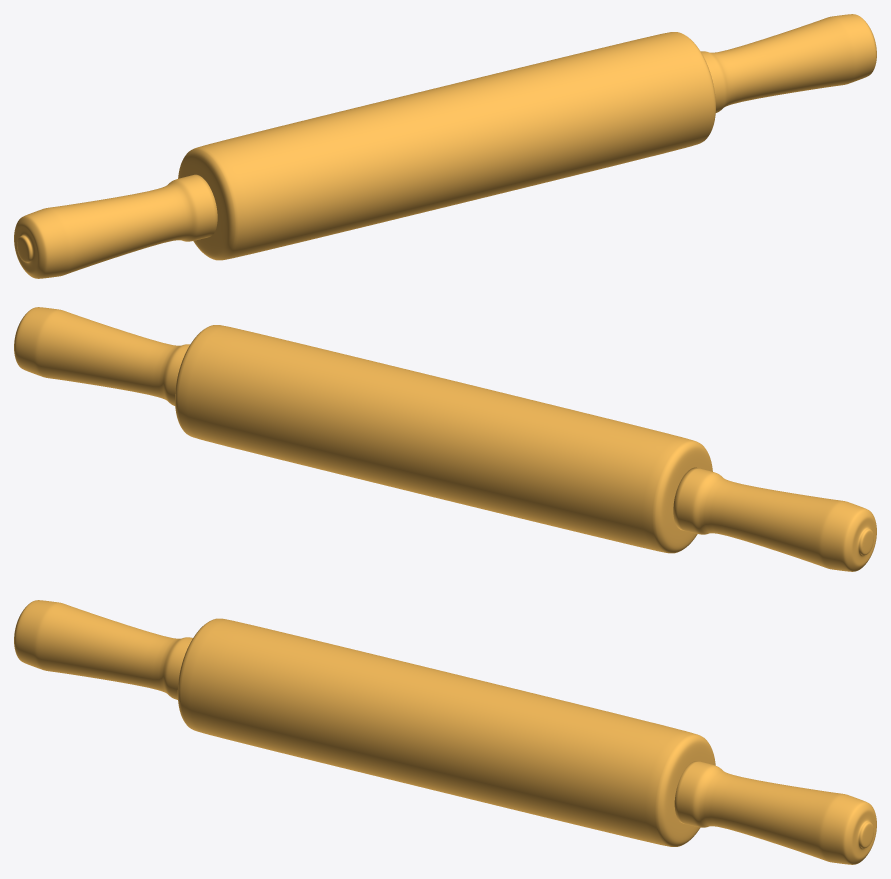
The picture shows the model from 3 angles, top to bottom: view 1: azimuth 30°, elevation 25°; view 2: azimuth 150°, elevation 25°; view 3: azimuth 330°, elevation 25°; orthographic projection.
Visible parts, largest first — view 1: Roller Pin, Cylinder.002; view 2: Roller Pin, Cylinder.002; view 3: Roller Pin, Cylinder.002.
Boxes of the visible parts, left/top/right/bottom form: Roller Pin: left=178, top=32, right=715, bottom=260; Cylinder.002: left=14, top=14, right=876, bottom=278; Roller Pin: left=175, top=325, right=712, bottom=553; Cylinder.002: left=14, top=307, right=876, bottom=571; Roller Pin: left=177, top=618, right=715, bottom=846; Cylinder.002: left=14, top=600, right=876, bottom=864.
Size of the model in its own units: 2203 by 266 by 266.
